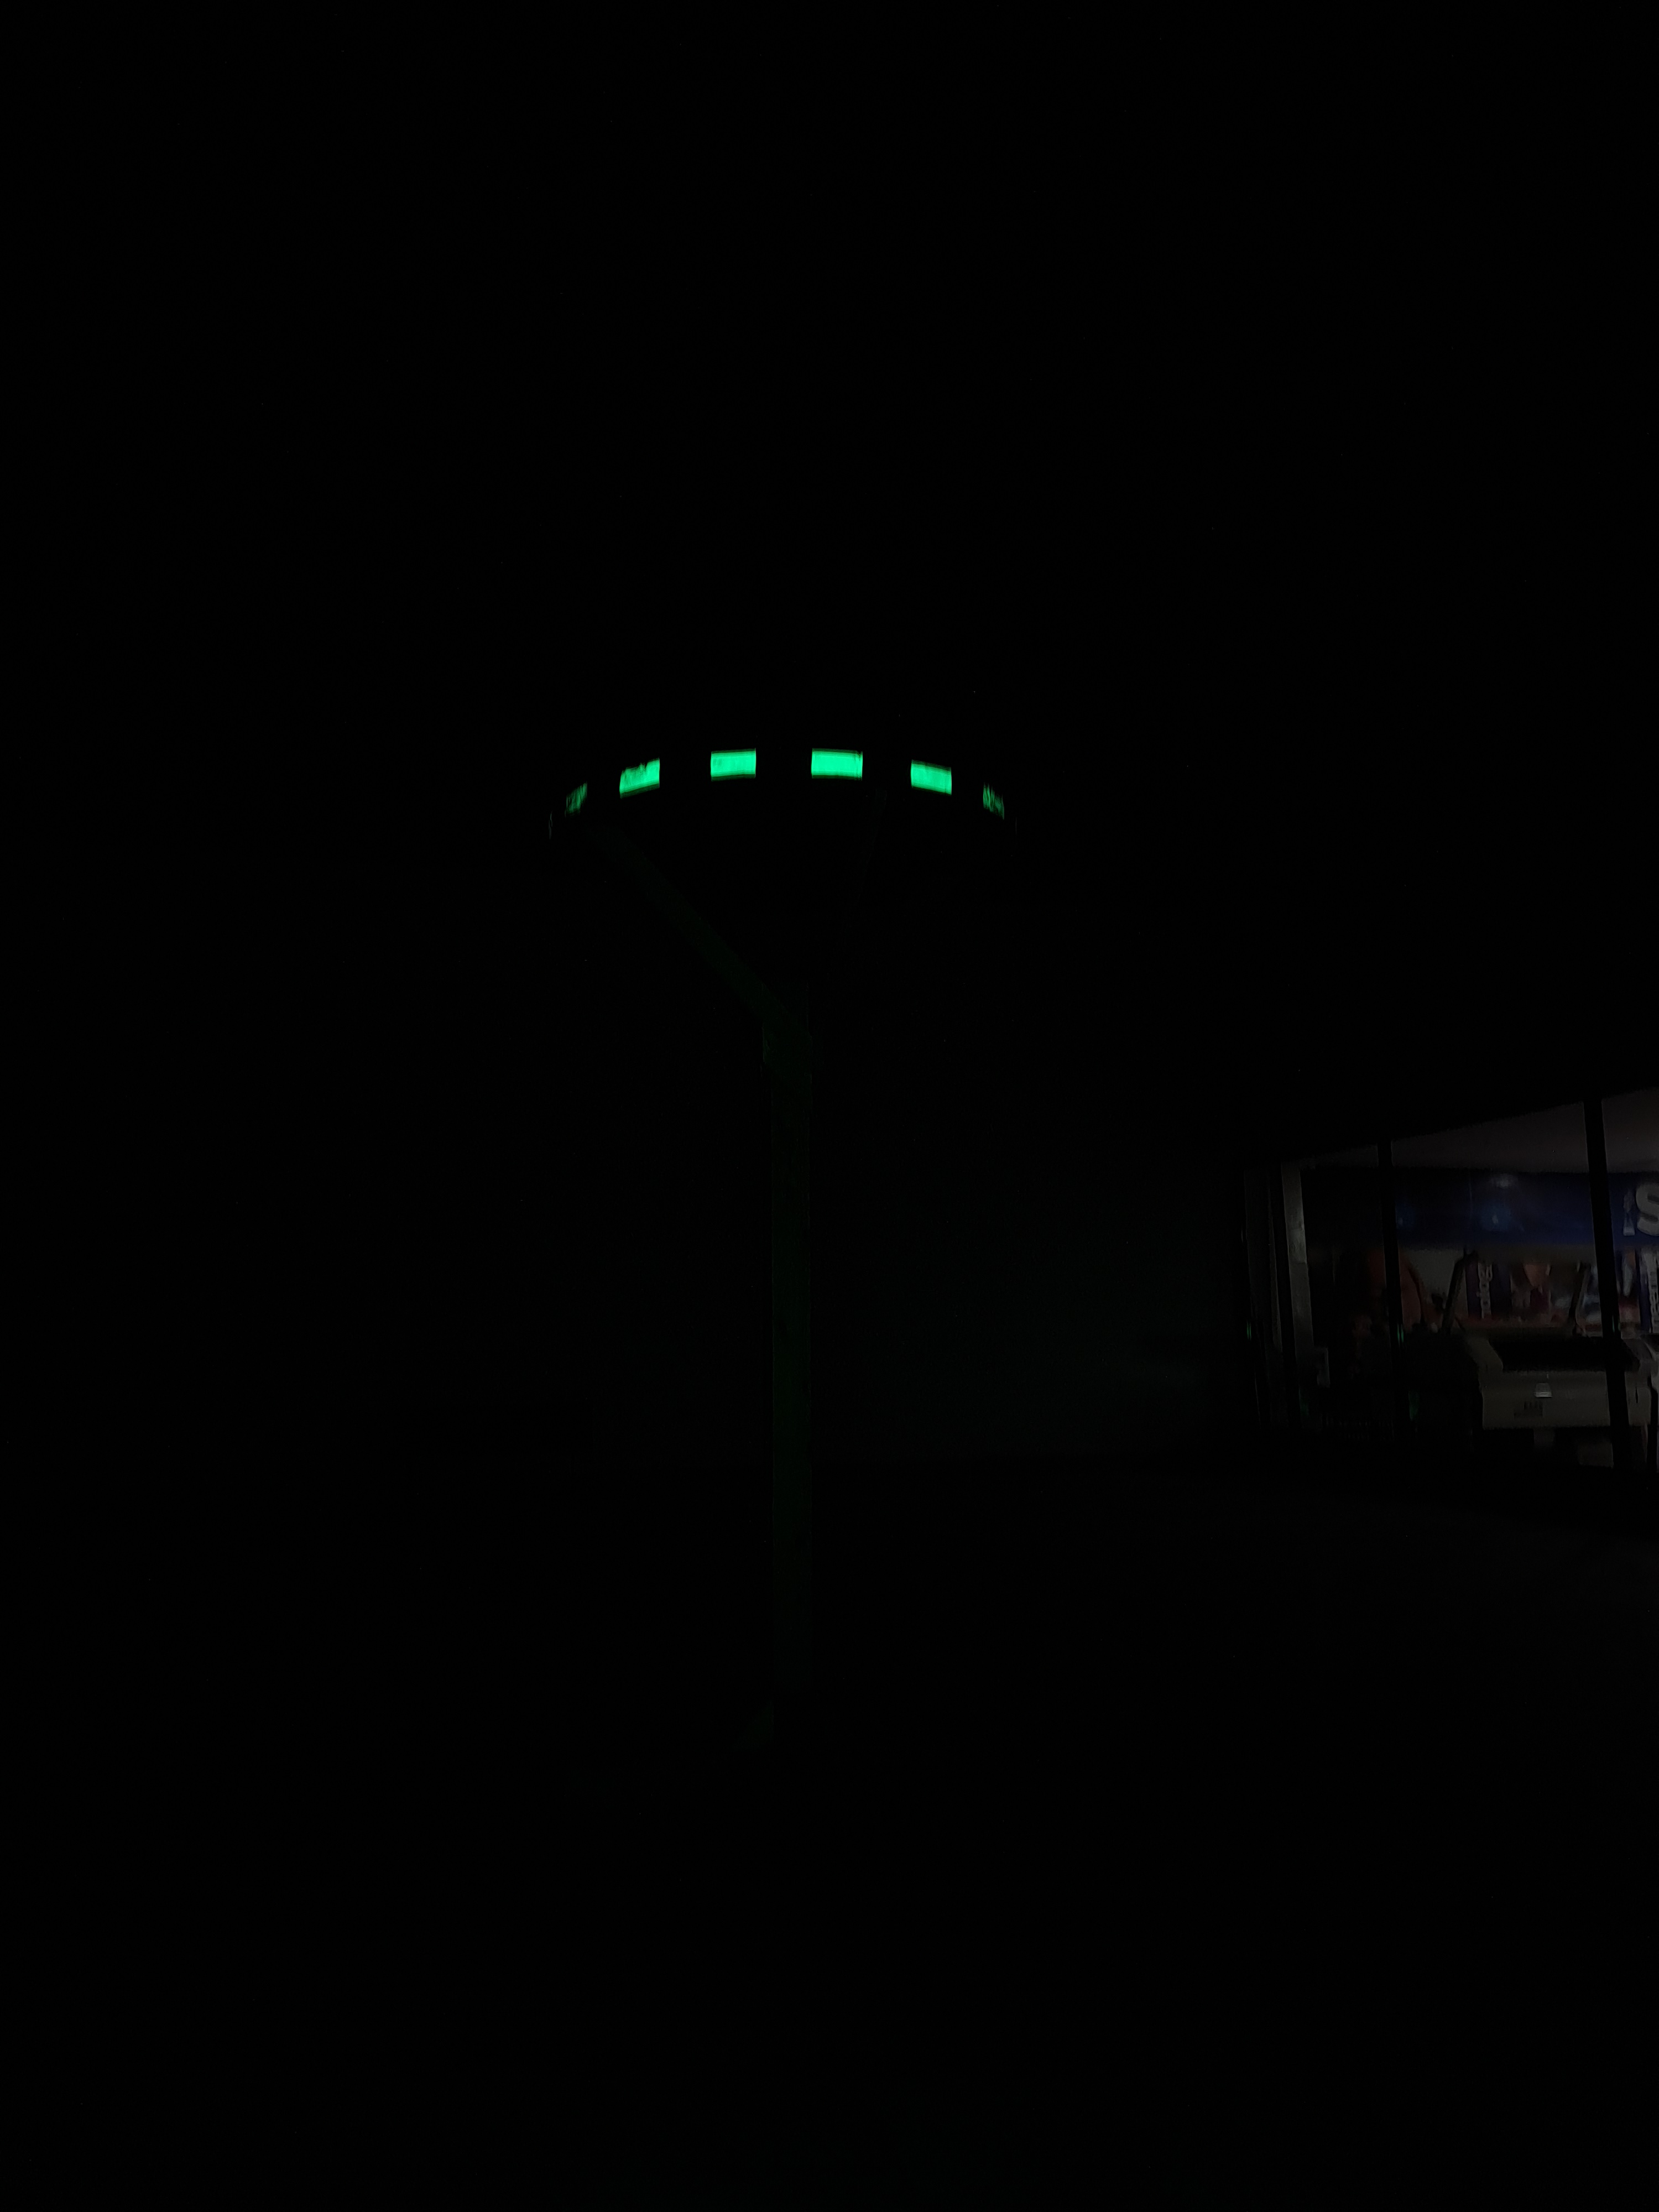hoop: (514, 723, 1033, 843)
